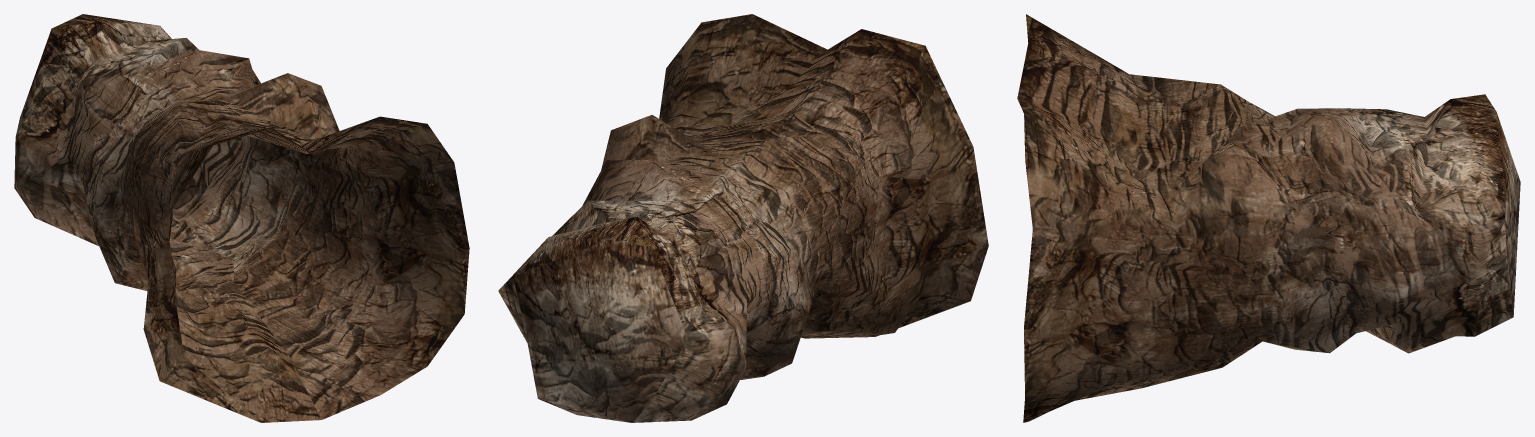
File: MEP_DesertCliff_07.fbx
3 views of the same model, side by side, from view 1: azimuth 30°, elevation 25°; view 2: azimuth 150°, elevation 25°; view 3: azimuth 270°, elevation 25° (orthographic). The views are drawn at different scales.
Visible parts, largest first — view 1: MEP_Desert_Cliff_07; view 2: MEP_Desert_Cliff_07; view 3: MEP_Desert_Cliff_07.
Boxes of the visible parts, x1,y1,x2,y2 form: MEP_Desert_Cliff_07: (14,14,469,422); MEP_Desert_Cliff_07: (498,14,988,422); MEP_Desert_Cliff_07: (1017,14,1520,422).
Bounding box in the file's own units: 16.54 × 15.11 × 20.69.
